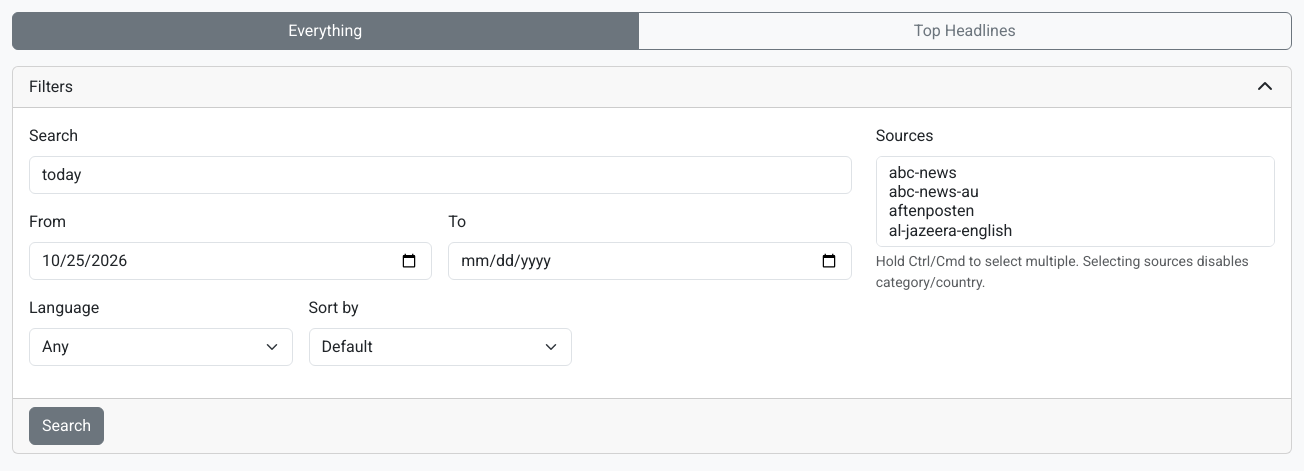
Test: NewsFilterFormComponent › conditional filter fields › shows category/country for top-headlines, hides from/to/sortBy
Click the button "Top Headlines" at (965, 31), box [638,12,1292,50]
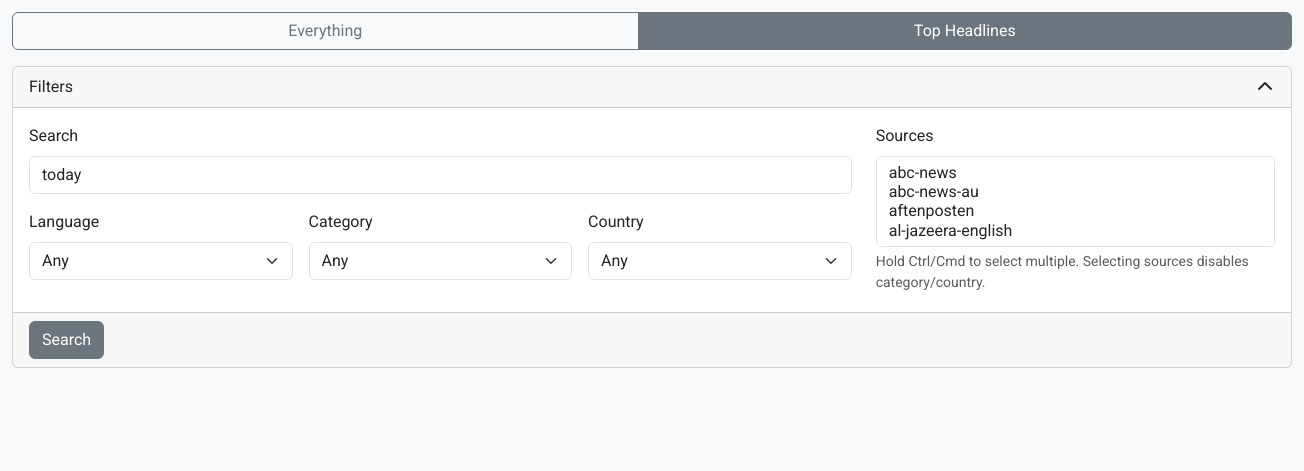
Check: the dropdown with id "category" is shown, box [308,242,572,280]
Check: the dropdown with id "country" is shown, box [588,242,852,280]
Check: the label with id "from" is gone
